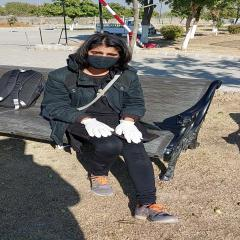gloved: (115, 119, 143, 144), (82, 120, 114, 138)
